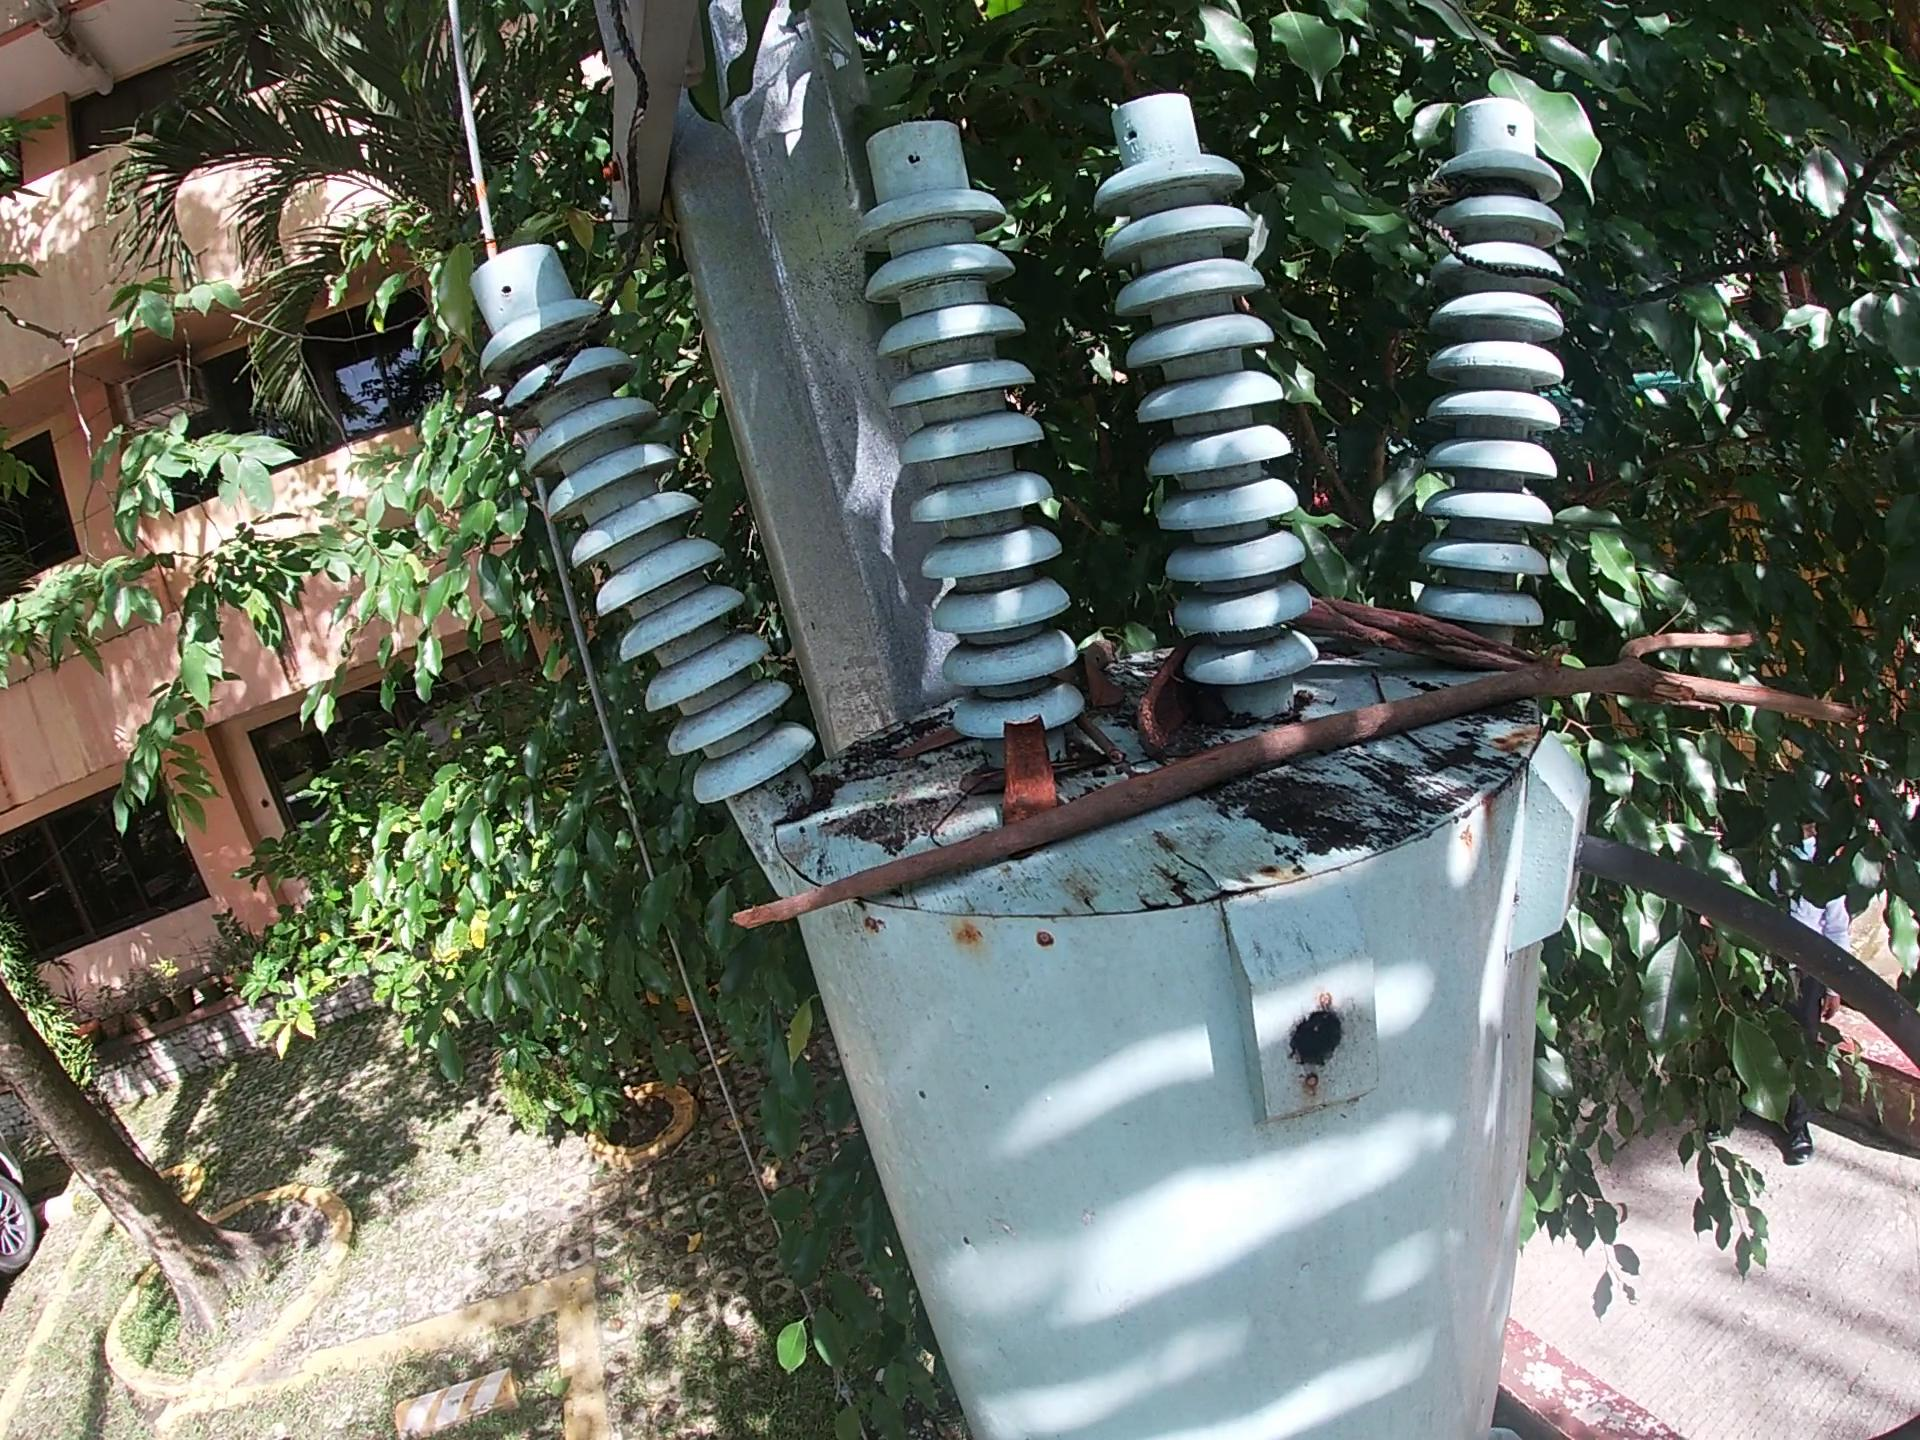leaf: (884, 722, 968, 768), (1070, 655, 1128, 715)
mahogany fruit: (1129, 632, 1214, 762), (996, 708, 1064, 835)
tree branch: (714, 622, 1872, 942), (1290, 588, 1645, 703)
